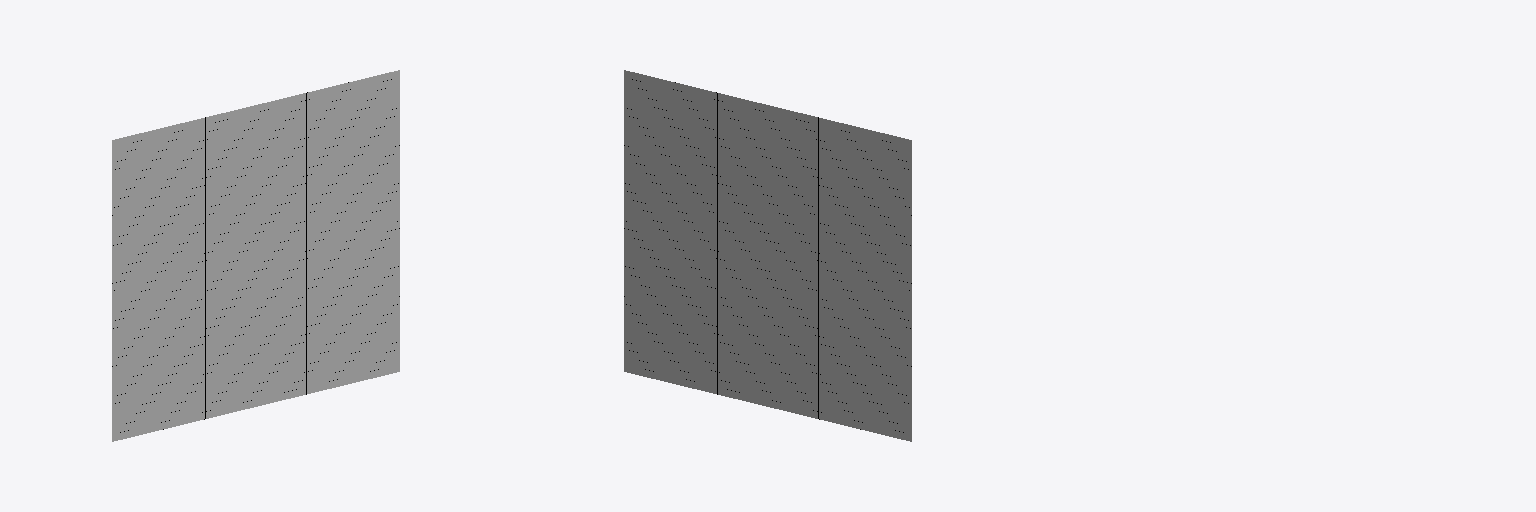
3 views of the same model, side by side, from view 1: azimuth 30°, elevation 25°; view 2: azimuth 150°, elevation 25°; view 3: azimuth 270°, elevation 25° (orthographic).
Parts seen in each view (by area): view 1: Plane; view 2: Plane; view 3: none.
Part boxes in pixels (left/top/right/bottom): Plane: left=112, top=70, right=399, bottom=441; Plane: left=624, top=70, right=911, bottom=441.
Bounding box in the file's own units: 40 × 40 × 0.
1 materials, 1 textured.